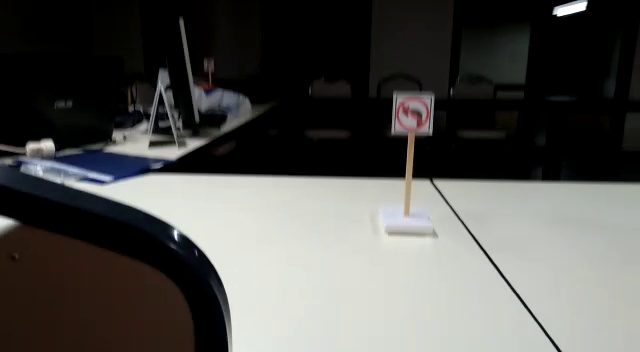sola_donulmez: (396, 92, 434, 132)
